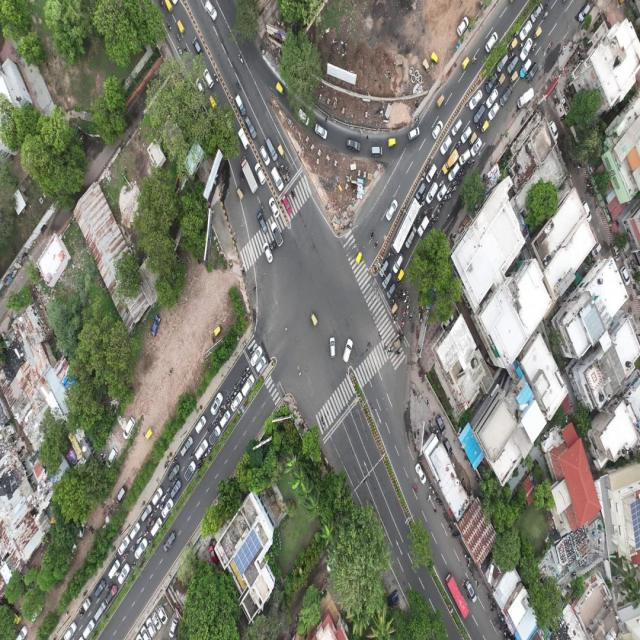3W: (354, 248, 363, 266), (481, 120, 490, 135), (177, 19, 186, 34), (275, 80, 284, 95), (508, 38, 518, 51), (212, 326, 222, 338), (422, 57, 430, 72), (144, 426, 153, 439), (533, 27, 542, 40), (436, 94, 445, 107), (509, 71, 518, 84), (208, 95, 217, 108), (310, 311, 318, 325), (278, 143, 286, 157), (461, 56, 469, 70), (238, 185, 244, 201), (387, 138, 396, 148), (390, 303, 398, 314), (397, 270, 404, 282), (393, 340, 401, 350), (431, 52, 438, 63), (469, 133, 476, 143), (498, 74, 505, 84)
Bus: (390, 199, 420, 257), (444, 570, 470, 621)
Cars: (517, 87, 534, 110), (404, 224, 417, 250), (271, 221, 284, 246), (270, 168, 283, 192), (500, 85, 513, 109), (342, 339, 355, 363), (123, 416, 136, 439), (210, 391, 223, 414), (519, 20, 532, 43), (180, 435, 194, 456), (526, 62, 538, 86), (105, 582, 118, 604), (425, 180, 438, 202), (469, 89, 482, 111), (465, 580, 478, 602), (205, 0, 218, 22), (245, 117, 258, 139), (163, 531, 176, 553), (118, 562, 130, 585), (105, 446, 118, 467), (254, 163, 267, 184), (530, 3, 543, 24), (314, 122, 328, 141), (416, 463, 428, 485), (250, 344, 262, 366), (135, 538, 148, 558), (425, 164, 438, 184), (239, 126, 249, 152), (485, 31, 498, 51), (385, 200, 398, 220), (170, 477, 182, 498), (473, 104, 485, 125), (489, 101, 501, 122), (235, 95, 248, 114), (63, 621, 76, 640), (195, 414, 206, 436), (328, 339, 339, 361), (208, 424, 220, 444), (94, 578, 106, 598), (162, 498, 174, 518), (242, 375, 254, 395), (393, 254, 405, 274), (520, 40, 532, 60), (118, 536, 130, 556), (168, 461, 180, 481), (267, 136, 277, 160), (520, 58, 532, 78), (108, 559, 120, 579), (298, 106, 309, 127), (151, 314, 161, 337), (203, 66, 213, 89), (83, 619, 95, 638), (432, 121, 444, 140), (484, 73, 496, 92), (185, 460, 197, 479), (496, 54, 508, 73), (347, 138, 361, 154), (415, 180, 426, 200), (231, 393, 242, 413), (196, 439, 207, 459), (459, 148, 470, 168), (260, 146, 271, 166), (257, 213, 268, 233), (150, 518, 162, 536), (255, 355, 267, 373), (440, 136, 452, 154), (456, 16, 468, 34), (507, 56, 519, 74), (486, 89, 498, 107), (282, 193, 292, 214), (116, 485, 127, 504), (381, 271, 392, 290), (436, 184, 448, 201), (268, 198, 278, 218), (263, 242, 273, 262), (95, 602, 106, 620), (378, 260, 389, 278), (451, 118, 462, 136), (471, 138, 482, 156), (141, 504, 152, 522), (192, 34, 201, 54), (130, 522, 140, 540), (408, 125, 420, 140), (152, 488, 163, 504), (220, 411, 230, 428), (461, 126, 471, 143), (448, 165, 459, 180), (370, 145, 383, 157), (387, 283, 396, 299)
LCV: (442, 149, 459, 174), (78, 598, 90, 618), (418, 216, 429, 237)
M2W: (238, 49, 245, 64), (213, 72, 220, 84), (531, 42, 537, 55), (167, 21, 173, 33), (239, 174, 245, 185), (286, 173, 291, 186), (416, 214, 423, 223), (456, 140, 462, 150), (259, 202, 265, 212), (374, 238, 379, 250), (176, 31, 182, 41), (176, 44, 182, 54), (548, 42, 552, 56), (143, 530, 149, 539), (543, 12, 549, 21), (545, 0, 551, 9), (321, 415, 325, 428), (472, 55, 477, 65), (285, 164, 290, 174), (401, 320, 406, 330), (370, 228, 375, 238), (213, 417, 218, 427), (159, 504, 165, 512), (509, 51, 515, 59), (425, 163, 431, 171), (433, 215, 439, 223), (402, 308, 406, 320), (207, 424, 213, 432), (106, 582, 112, 590), (443, 193, 448, 202), (387, 250, 392, 259), (406, 300, 411, 309), (397, 328, 402, 337), (189, 450, 194, 459), (244, 365, 249, 374), (226, 399, 231, 408), (148, 512, 153, 521), (439, 201, 445, 208), (460, 165, 466, 172), (447, 193, 453, 200), (403, 296, 409, 303), (231, 391, 237, 398), (174, 473, 180, 480), (164, 461, 170, 468), (161, 495, 167, 502), (272, 242, 276, 252), (290, 188, 294, 198), (280, 162, 284, 172), (278, 165, 282, 175), (518, 42, 523, 50), (456, 171, 461, 179), (429, 213, 434, 221), (203, 452, 208, 460), (154, 504, 159, 512), (136, 536, 141, 544), (167, 484, 171, 493), (451, 180, 457, 186), (446, 187, 452, 193), (421, 172, 425, 181), (428, 206, 434, 212), (422, 210, 428, 216), (239, 372, 245, 378), (242, 377, 246, 386), (223, 401, 227, 410), (198, 460, 202, 469), (132, 559, 136, 568), (514, 31, 519, 38), (466, 160, 471, 167), (457, 180, 462, 187), (439, 180, 444, 187), (420, 201, 425, 208), (429, 221, 434, 228), (403, 290, 408, 297), (173, 455, 178, 462), (246, 370, 251, 377), (236, 384, 241, 391), (436, 208, 440, 216), (434, 171, 438, 179), (422, 192, 426, 200), (226, 394, 230, 402), (219, 404, 223, 412), (114, 552, 118, 560), (398, 282, 403, 288), (394, 318, 399, 324), (233, 383, 238, 389), (218, 412, 224, 417), (207, 447, 212, 453), (125, 550, 130, 556), (471, 160, 475, 167), (452, 185, 456, 192), (399, 288, 403, 295), (391, 298, 395, 305), (393, 311, 397, 318), (388, 346, 392, 353), (151, 518, 155, 525), (122, 553, 126, 560), (416, 330, 419, 339), (462, 171, 467, 176), (410, 312, 413, 320), (411, 323, 414, 331), (145, 524, 149, 530), (394, 293, 397, 299), (399, 296, 402, 302)
Truck: (242, 157, 258, 194)
